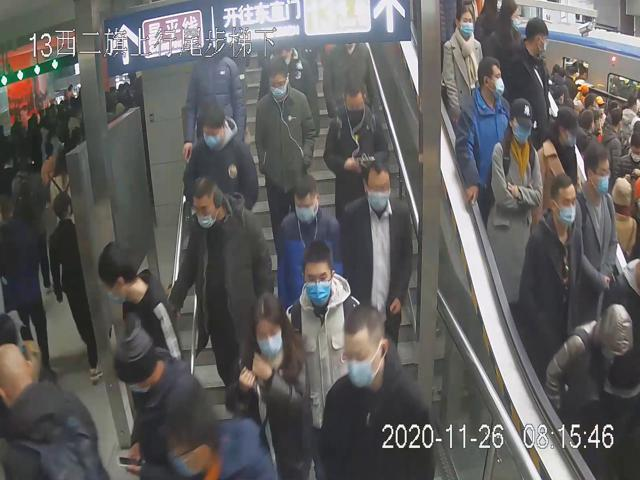person: (164, 174, 273, 424), (316, 305, 432, 476), (279, 240, 364, 450), (337, 158, 414, 371), (228, 288, 312, 479), (251, 53, 315, 252), (519, 174, 579, 369), (321, 68, 389, 234), (178, 103, 258, 239), (489, 94, 540, 305), (269, 175, 344, 304), (456, 55, 512, 221), (577, 143, 617, 322), (442, 8, 485, 122)
